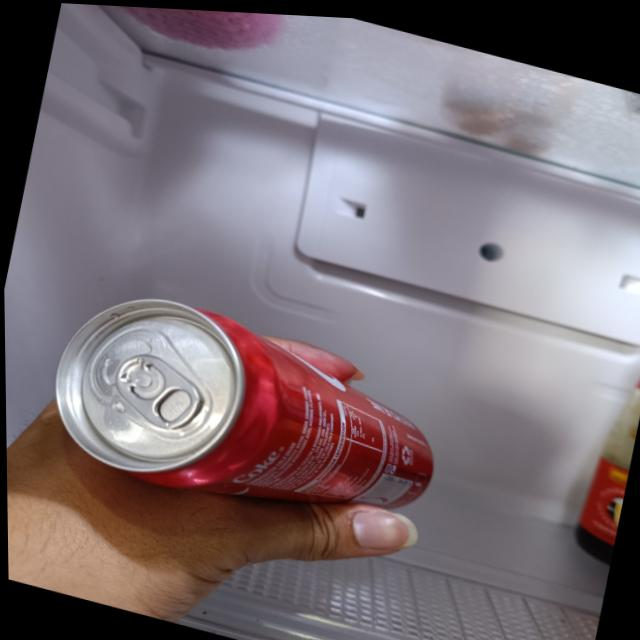coke: (43, 270, 451, 541)
